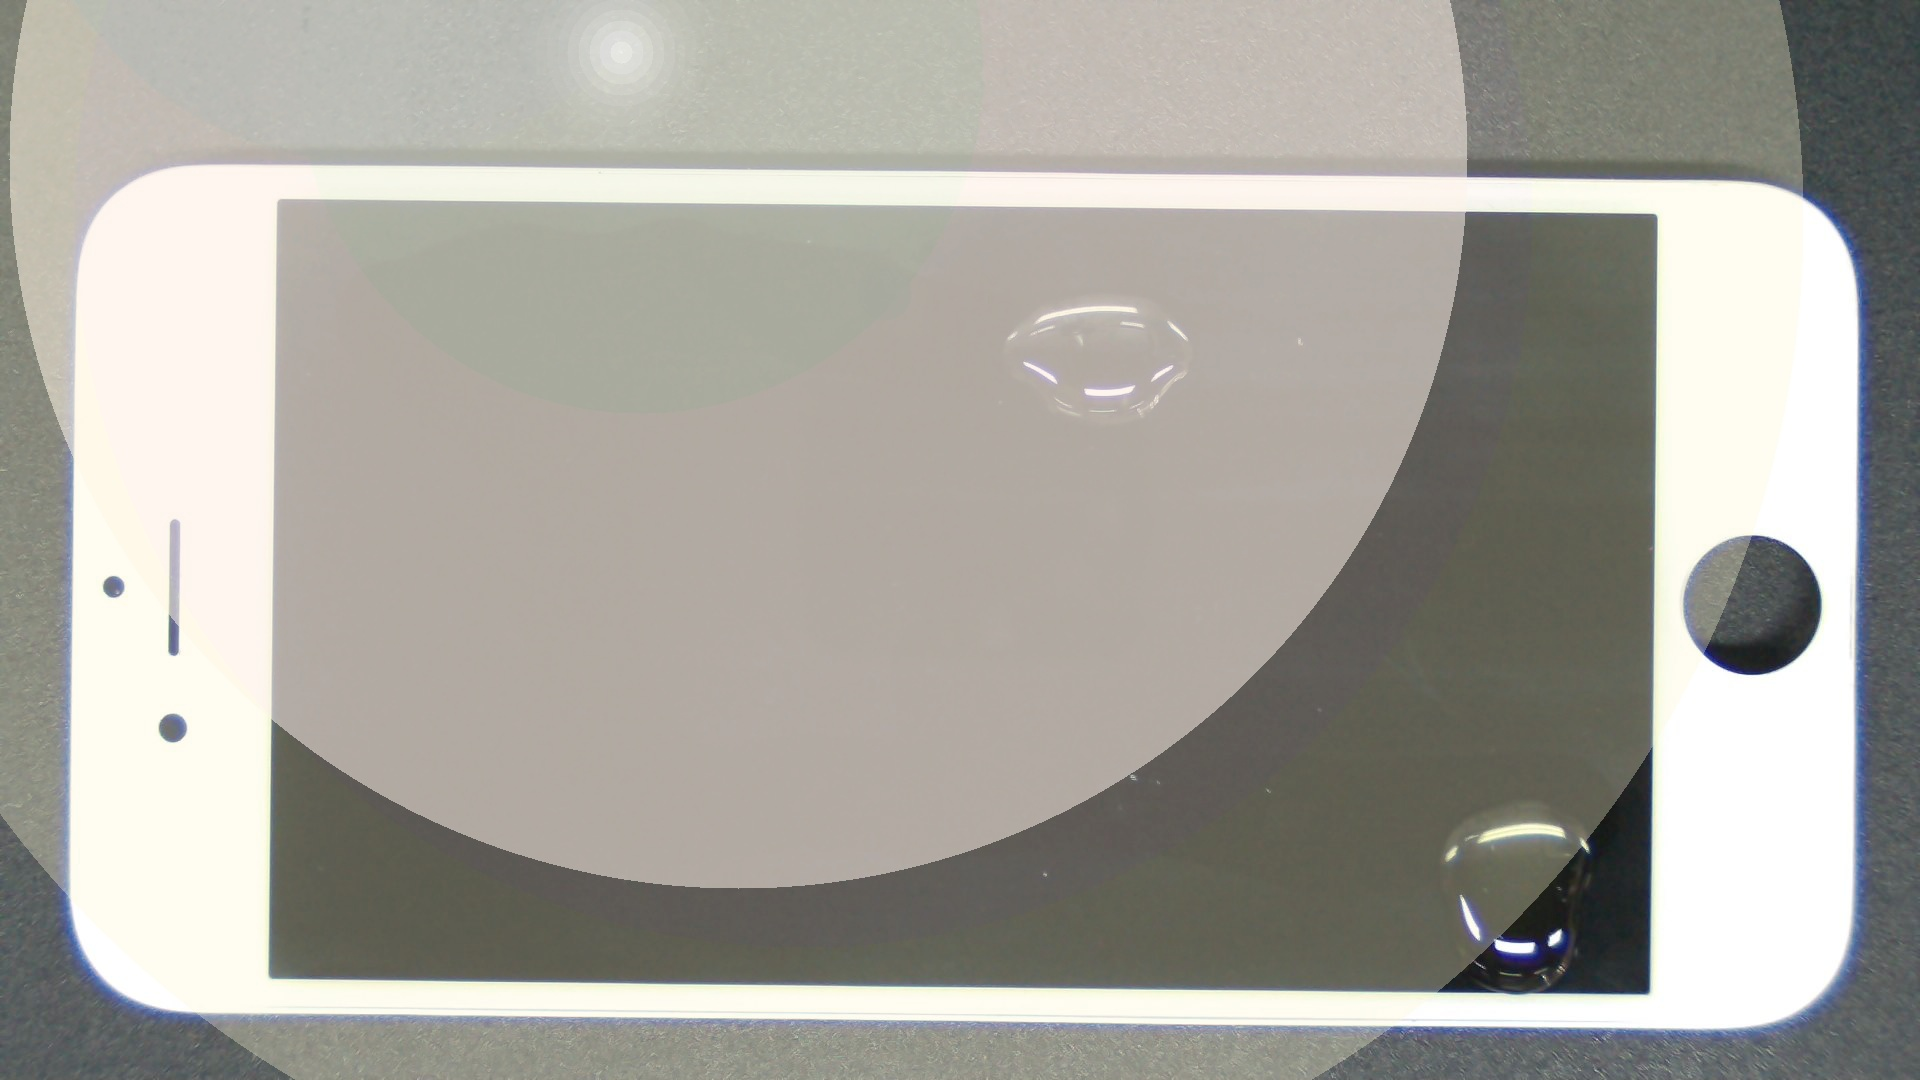oil: (764, 400, 1920, 1080), (545, 146, 1631, 440)
